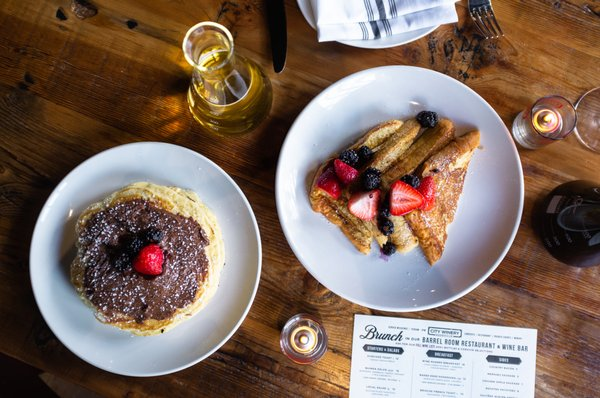sushi: (28, 139, 264, 378)
